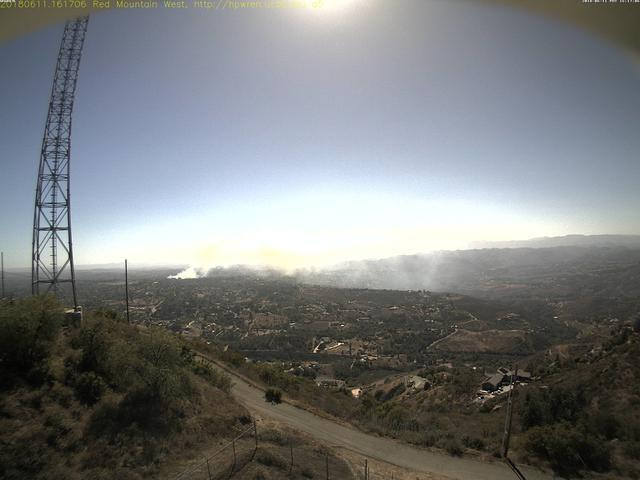smoke: (171, 245, 440, 287)
